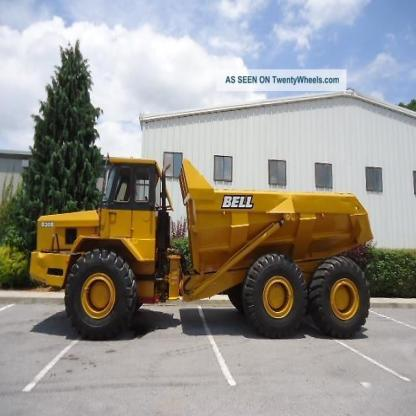dump_truck: (30, 144, 392, 360)
